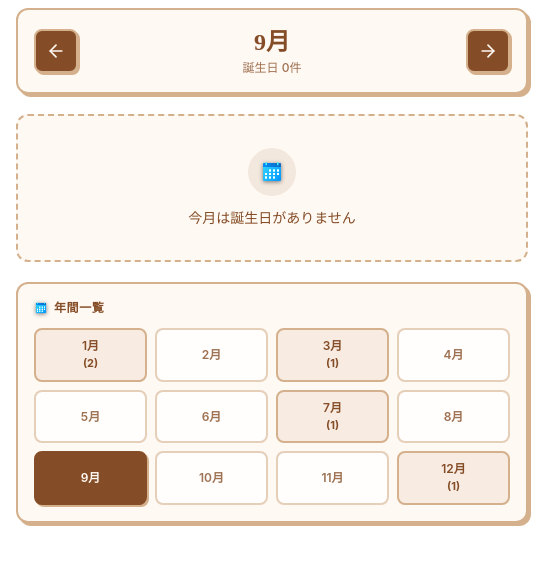
Test: Games Components Suite › BirthdayCalendar › 誕生日のある月を選択した際にカードが表示されること
1月を選択 (太郎, 花子)
Click the button "1月 (2)". click: [90, 355]
box: [34,328,147,382]
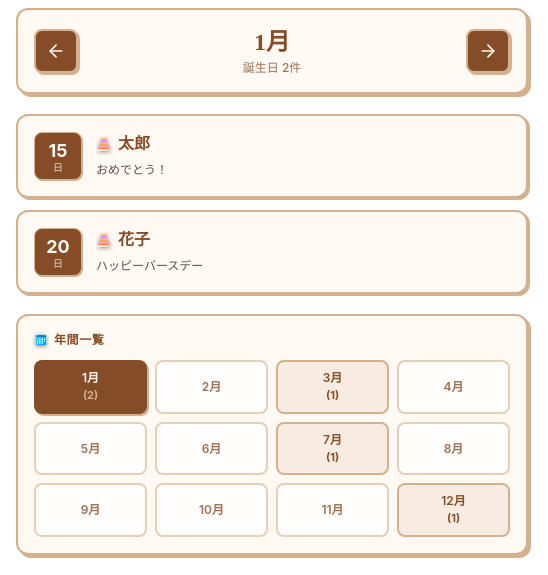
Result: the text "太郎" is shown at [118,132,150,156]
Result: the text "花子" is shown at [118,228,150,252]
